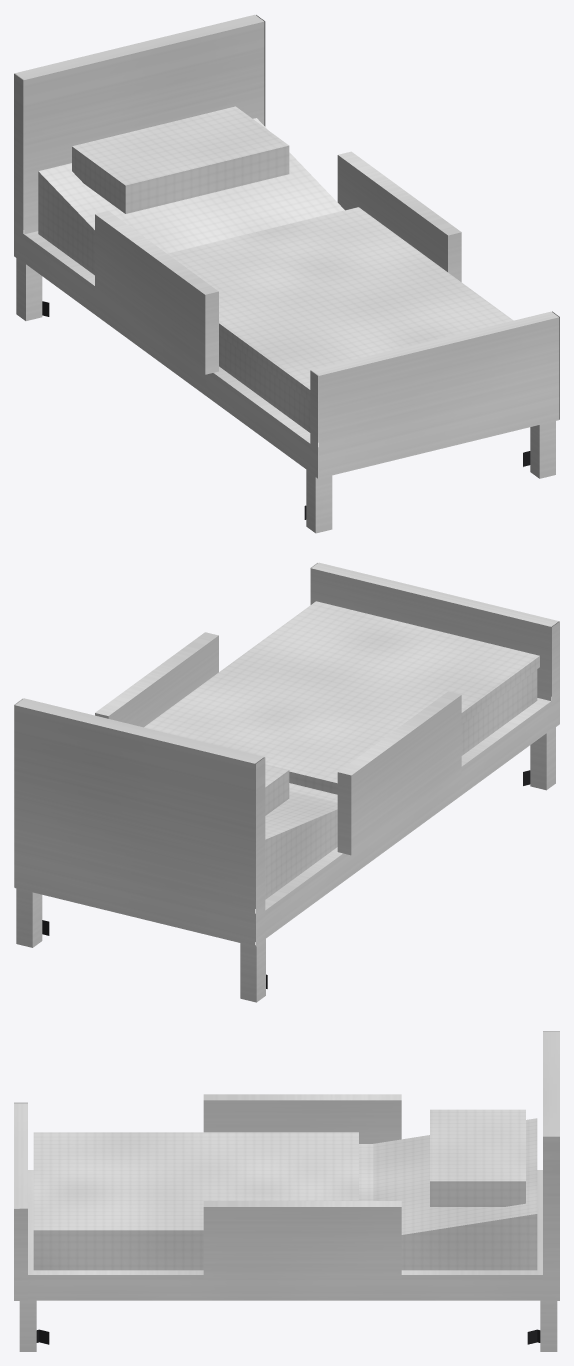
File: hospital_bed.obj
The picture shows the model from 3 angles, top to bottom: view 1: azimuth 30°, elevation 25°; view 2: azimuth 150°, elevation 25°; view 3: azimuth 270°, elevation 25°; orthographic projection. The views are drawn at different scales.
Visible parts, largest first — view 1: hospital_bed; view 2: hospital_bed; view 3: hospital_bed.
Boxes of the visible parts, bbox=[...] form: hospital_bed: bbox=[14, 14, 559, 533]; hospital_bed: bbox=[14, 562, 559, 1002]; hospital_bed: bbox=[14, 1031, 559, 1351].
Bounding box in the file's own units: 0.94 × 0.84 × 1.93.
